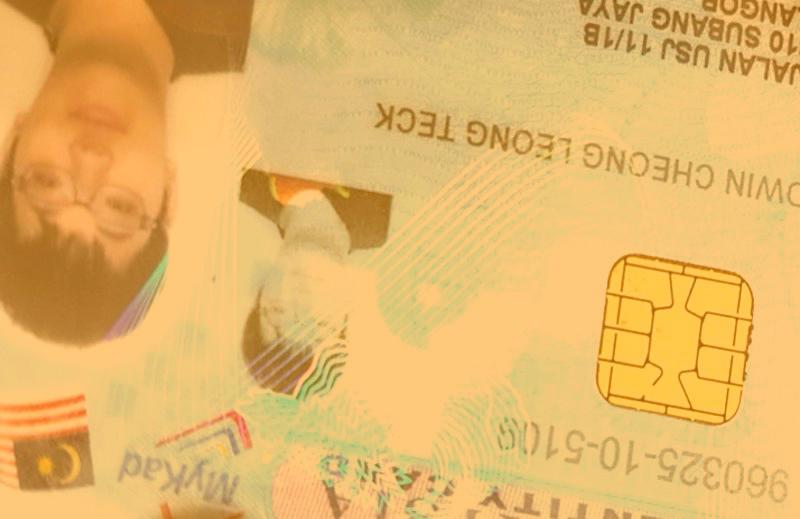hologram: (395, 163, 555, 315)
